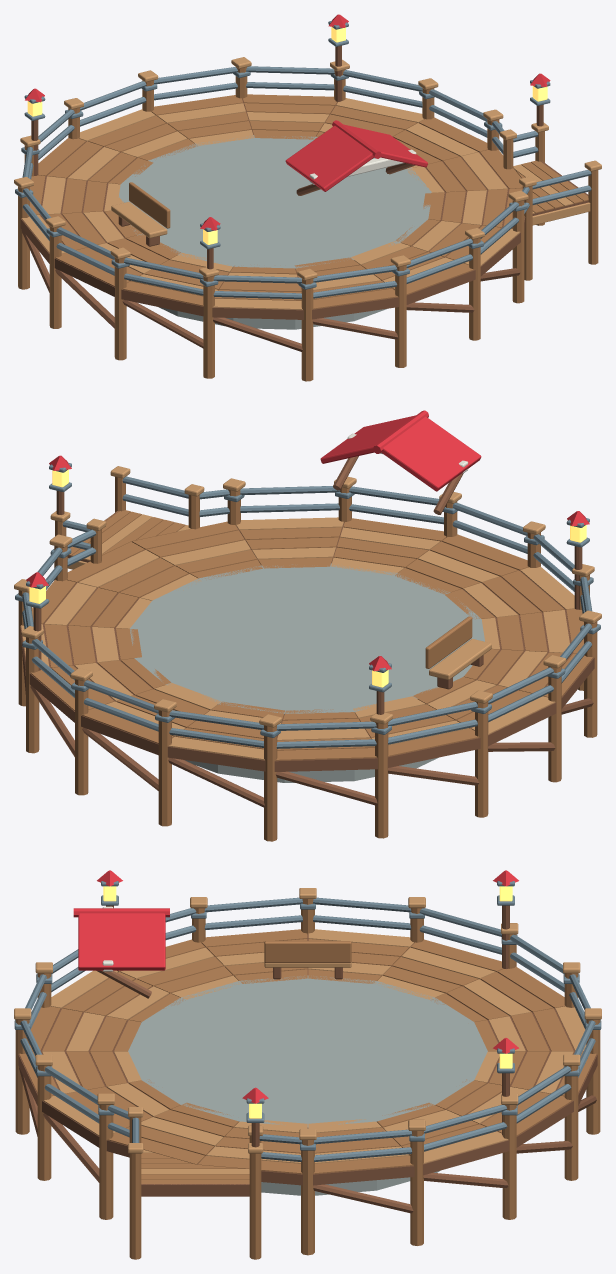
File: artea_watchtower_link.glb
3 views of the same model, one above another, from view 1: azimuth 30°, elevation 25°; view 2: azimuth 150°, elevation 25°; view 3: azimuth 270°, elevation 25° (orthographic). The views are drawn at different scales.
Visible parts, largest first — view 1: TowerStoneFooting, PorchRedRoof, PorchRedRoof.001, TerracePile_05, TerracePile_07, TerracePile_06, TerracePile_08, TerracePile_04, TerracePile_03, TerracePile_02, BridgePost_Sea_8.7, TerraceFloor_05 (+79 smaller); view 2: TowerStoneFooting, PorchRedRoof, PorchRedRoof.001, TerracePile_11, TerracePile_10, TerracePile_12, TerracePile_09, TerracePile_13, TerracePile_08, TerraceFloor_10, TerracePile_14, LookoutBenchSeat (+89 smaller); view 3: TowerStoneFooting, PorchRedRoof.001, LookoutBenchBack, TerracePile_02, TerracePile_00, TerracePile_14, TerracePile_15, BridgePost_Sea_8.7, BridgePost_Shore_8.7, TerracePile_03, TerracePile_13, ConnectingWalkwayFloor (+81 smaller).
Part boxes in pixels (x1,y1,x2,y2): TowerStoneFooting: (118, 135, 431, 329); PorchRedRoof: (285, 125, 373, 191); PorchRedRoof.001: (344, 124, 427, 167); TerracePile_05: (301, 279, 313, 381); TerracePile_07: (114, 257, 126, 360); TerracePile_06: (203, 276, 214, 378); TerracePile_08: (49, 226, 61, 328); TerracePile_04: (395, 265, 406, 367); TerracePile_03: (469, 238, 480, 340); TerracePile_02: (512, 200, 524, 303); BridgePost_Sea_8.7: (588, 170, 598, 264); TerraceFloor_05: (212, 287, 303, 319); TowerStoneFooting: (130, 563, 484, 782); PorchRedRoof: (381, 416, 481, 491); PorchRedRoof.001: (320, 415, 415, 463); TerracePile_11: (264, 725, 277, 841); TerracePile_10: (375, 722, 388, 838); TerracePile_12: (158, 710, 171, 826); TerracePile_09: (475, 701, 488, 817); TerracePile_13: (75, 679, 88, 795); TerracePile_08: (548, 666, 561, 782); TerraceFloor_10: (274, 735, 377, 771); TerracePile_14: (26, 637, 39, 753); LookoutBenchSeat: (429, 639, 491, 679); TowerStoneFooting: (128, 975, 487, 1195); PorchRedRoof.001: (78, 913, 165, 970); LookoutBenchBack: (264, 941, 351, 962); TerracePile_02: (99, 1105, 113, 1219); TerracePile_00: (301, 1140, 314, 1255); TerracePile_14: (502, 1105, 516, 1219); TerracePile_15: (410, 1131, 423, 1245); BridgePost_Sea_8.7: (129, 1153, 141, 1259); BridgePost_Shore_8.7: (249, 1153, 261, 1259); TerracePile_03: (37, 1065, 51, 1180); TerracePile_13: (564, 1065, 578, 1180); ConnectingWalkwayFloor: (141, 1185, 249, 1196).
Bounding box in the file's own units: 17.16 × 6.78 × 16.18.
